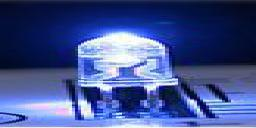LED: (67, 32, 180, 125)
